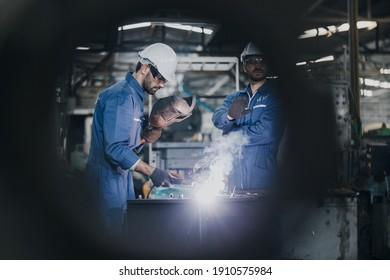gloves: (149, 167, 182, 188), (227, 95, 251, 121), (142, 124, 162, 143)
